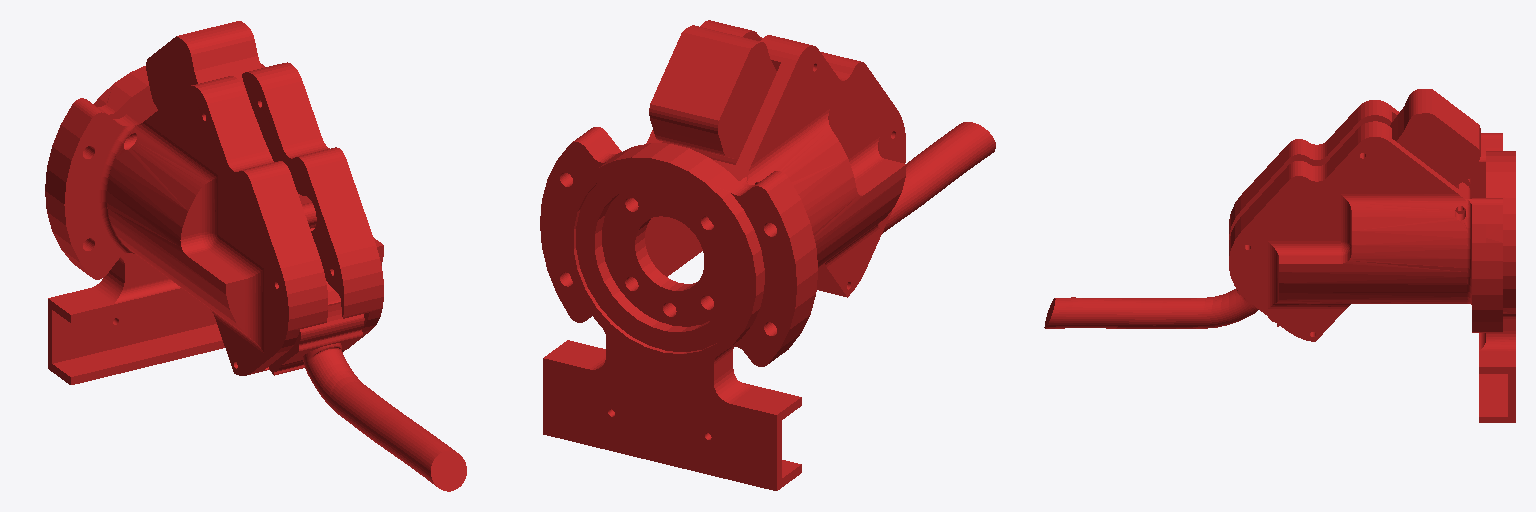
The robot description file, URDF, robot "fairino5_v6_robot":
<?xml version="1.0" encoding="utf-8"?>
<!-- This URDF was automatically created by SolidWorks to URDF Exporter! Originally created by [author] ([email redacted]) 
     Commit Version: 1.5.1-0-g916b5db  Build Version: 1.5.7152.31018
     For more information, please see http://wiki.ros.org/sw_urdf_exporter -->
<robot
  name="fairino5_v6_robot">
  <link
    name="base_link">
    <inertial>
      <origin
        xyz="-0.00031896 -0.00029673 0.042463"
        rpy="0 0 0" />
      <mass
        value="1.6185" />
      <inertia
        ixx="0.0030836"
        ixy="1.5354E-05"
        ixz="-1.9315E-05"
        iyy="0.0030825"
        iyz="-1.7918E-05"
        izz="0.0045209" />
    </inertial>
    <visual>
      <origin
        xyz="0 0 0"
        rpy="0 0 0" />
      <geometry>
        <mesh
          filename="package://fairino_description/meshes/fairino5_v6/base_link.STL" />
      </geometry>
      <material
        name="">
        <color
          rgba="0.89804 0.91765 0.92941 1" />
      </material>
    </visual>
    <collision>
      <origin
        xyz="0 0 0"
        rpy="0 0 0" />
      <geometry>
        <mesh
          filename="package://fairino_description/meshes/fairino5_v6/base_link.STL" />
      </geometry>
    </collision>
  </link>
  <link
    name="shoulder_link">
    <inertial>
      <origin
        xyz="5.0029E-07 -0.0040922 0.14629"
        rpy="0 0 0" />
      <mass
        value="4.3771" />
      <inertia
        ixx="0.010731"
        ixy="-8.0587E-09"
        ixz="-3.6773E-08"
        iyy="0.010408"
        iyz="0.00012853"
        izz="0.0081793" />
    </inertial>
    <visual>
      <origin
        xyz="0 0 0"
        rpy="0 0 0" />
      <geometry>
        <mesh
          filename="package://fairino_description/meshes/fairino5_v6/shoulder_link.STL" />
      </geometry>
      <material
        name="">
        <color
          rgba="0.89804 0.91765 0.92941 1" />
      </material>
    </visual>
    <collision>
      <origin
        xyz="0 0 0"
        rpy="0 0 0" />
      <geometry>
        <mesh
          filename="package://fairino_description/meshes/fairino5_v6/shoulder_link.STL" />
      </geometry>
    </collision>
  </link>
  <joint
    name="j1"
    type="revolute">
    <origin
      xyz="0 0 0"
      rpy="0 0 0" />
    <parent
      link="base_link" />
    <child
      link="shoulder_link" />
    <axis
      xyz="0 0 1" />
    <limit
      lower="-3.0543"
      upper="3.0543"
      effort="150"
      velocity="3.15" />
    <calibration
      rising="0"
      falling="0" />
    <dynamics
      damping="0"
      friction="0" />
    <safety_controller
      soft_lower_limit="-3.0543"
      soft_upper_limit="3.0543"
      k_position="15"
      k_velocity="10" />
  </joint>
  <link
    name="upperarm_link">
    <inertial>
      <origin
        xyz="-0.2125 -5.7643E-09 0.1346"
        rpy="0 0 0" />
      <mass
        value="14.458" />
      <inertia
        ixx="0.028392"
        ixy="-1.337E-07"
        ixz="-3.9895E-09"
        iyy="0.4559"
        iyz="4.214E-08"
        izz="0.44974" />
    </inertial>
    <visual>
      <origin
        xyz="0 0 0"
        rpy="0 0 0" />
      <geometry>
        <mesh
          filename="package://fairino_description/meshes/fairino5_v6/upperarm_link.STL" />
      </geometry>
      <material
        name="">
        <color
          rgba="0.89804 0.91765 0.92941 1" />
      </material>
    </visual>
    <collision>
      <origin
        xyz="0 0 0"
        rpy="0 0 0" />
      <geometry>
        <mesh
          filename="package://fairino_description/meshes/fairino5_v6/upperarm_link.STL" />
      </geometry>
    </collision>
  </link>
  <joint
    name="j2"
    type="revolute">
    <origin
      xyz="0 0 0.152"
      rpy="1.5708 0 0" />
    <parent
      link="shoulder_link" />
    <child
      link="upperarm_link" />
    <axis
      xyz="0 0 1" />
    <limit
      lower="-4.6251"
      upper="1.4835"
      effort="150"
      velocity="3.15" />
    <calibration
      rising="0"
      falling="0" />
    <dynamics
      damping="0"
      friction="0" />
    <safety_controller
      soft_lower_limit="-4.6251"
      soft_upper_limit="1.4835"
      k_position="15"
      k_velocity="10" />
  </joint>
  <link
    name="forearm_link">
    <inertial>
      <origin
        xyz="-0.18793 -8.4503E-07 0.0066357"
        rpy="0 0 0" />
      <mass
        value="7.6737" />
      <inertia
        ixx="0.0085096"
        ixy="2.1613E-06"
        ixz="-0.0068678"
        iyy="0.16971"
        iyz="3.7086E-08"
        izz="0.16854" />
    </inertial>
    <visual>
      <origin
        xyz="0 0 0"
        rpy="0 0 0" />
      <geometry>
        <mesh
          filename="package://fairino_description/meshes/fairino5_v6/forearm_link.STL" />
      </geometry>
      <material
        name="">
        <color
          rgba="0.89804 0.91765 0.92941 1" />
      </material>
    </visual>
    <collision>
      <origin
        xyz="0 0 0"
        rpy="0 0 0" />
      <geometry>
        <mesh
          filename="package://fairino_description/meshes/fairino5_v6/forearm_link.STL" />
      </geometry>
    </collision>
  </link>
  <joint
    name="j3"
    type="revolute">
    <origin
      xyz="-0.425 0 0"
      rpy="0 0 0" />
    <parent
      link="upperarm_link" />
    <child
      link="forearm_link" />
    <axis
      xyz="0 0 1" />
    <limit
      lower="-2.8274"
      upper="2.8274"
      effort="150"
      velocity="3.15" />
    <calibration
      rising="0"
      falling="0" />
    <dynamics
      damping="0"
      friction="0" />
    <safety_controller
      soft_lower_limit="-2.8274"
      soft_upper_limit="2.8274"
      k_position="15"
      k_velocity="10" />
  </joint>
  <link
    name="wrist1_link">
    <inertial>
      <origin
        xyz="4.98E-07 -0.003754 0.097155"
        rpy="0 0 0" />
      <mass
        value="1.6266" />
      <inertia
        ixx="0.00216"
        ixy="4.888E-09"
        ixz="3.1528E-08"
        iyy="0.0015455"
        iyz="3.7678E-05"
        izz="0.0019902" />
    </inertial>
    <visual>
      <origin
        xyz="0 0 0"
        rpy="0 0 0" />
      <geometry>
        <mesh
          filename="package://fairino_description/meshes/fairino5_v6/wrist1_link.STL" />
      </geometry>
      <material
        name="">
        <color
          rgba="0.89804 0.91765 0.92941 1" />
      </material>
    </visual>
    <collision>
      <origin
        xyz="0 0 0"
        rpy="0 0 0" />
      <geometry>
        <mesh
          filename="package://fairino_description/meshes/fairino5_v6/wrist1_link.STL" />
      </geometry>
    </collision>
  </link>
  <joint
    name="j4"
    type="revolute">
    <origin
      xyz="-0.39501 0 0"
      rpy="0 0 0" />
    <parent
      link="forearm_link" />
    <child
      link="wrist1_link" />
    <axis
      xyz="0 0 1" />
    <limit
      lower="-4.6251"
      upper="1.4835"
      effort="28"
      velocity="3.2" />
    <calibration
      rising="0"
      falling="0" />
    <dynamics
      damping="0"
      friction="0" />
    <safety_controller
      soft_lower_limit="-4.6251"
      soft_upper_limit="1.4835"
      k_position="15"
      k_velocity="10" />
  </joint>
  <link
    name="wrist2_link">
    <inertial>
      <origin
        xyz="-4.5588E-07 0.0038617 0.098257"
        rpy="0 0 0" />
      <mass
        value="1.5812" />
      <inertia
        ixx="0.0020612"
        ixy="8.7064E-09"
        ixz="-3.4742E-08"
        iyy="0.0014477"
        iyz="-2.8534E-05"
        izz="0.0019573" />
    </inertial>
    <visual>
      <origin
        xyz="0 0 0"
        rpy="0 0 0" />
      <geometry>
        <mesh
          filename="package://fairino_description/meshes/fairino5_v6/wrist2_link.STL" />
      </geometry>
      <material
        name="">
        <color
          rgba="0.89804 0.91765 0.92941 1" />
      </material>
    </visual>
    <collision>
      <origin
        xyz="0 0 0"
        rpy="0 0 0" />
      <geometry>
        <mesh
          filename="package://fairino_description/meshes/fairino5_v6/wrist2_link.STL" />
      </geometry>
    </collision>
  </link>
  <joint
    name="j5"
    type="revolute">
    <origin
      xyz="0 0 0.1021"
      rpy="1.5708 0 0" />
    <parent
      link="wrist1_link" />
    <child
      link="wrist2_link" />
    <axis
      xyz="0 0 1" />
    <limit
      lower="-3.0543"
      upper="3.0543"
      effort="28"
      velocity="3.2" />
    <calibration
      rising="0"
      falling="0" />
    <dynamics
      damping="0"
      friction="0" />
    <safety_controller
      soft_lower_limit="-3.0543"
      soft_upper_limit="3.0543"
      k_position="15"
      k_velocity="10" />
  </joint>
  <link
    name="wrist3_link">
    <inertial>
      <origin
        xyz="7.7496E-05 1.7751E-05 0.076122"
        rpy="0 0 0" />
      <mass
        value="0.52542" />
      <inertia
        ixx="0.00027721"
        ixy="-1.8677E-09"
        ixz="-1.188E-07"
        iyy="0.00027839"
        iyz="2.2607E-07"
        izz="0.00041605" />
    </inertial>
    <visual>
      <origin
        xyz="0 0 0"
        rpy="0 0 0" />
      <geometry>
        <mesh
          filename="package://fairino_description/meshes/fairino5_v6/wrist3_link.STL" />
      </geometry>
      <material
        name="">
        <color
          rgba="0.89804 0.91765 0.92941 1" />
      </material>
    </visual>
    <collision>
      <origin
        xyz="0 0 0"
        rpy="0 0 0" />
      <geometry>
        <mesh
          filename="package://fairino_description/meshes/fairino5_v6/wrist3_link.STL" />
      </geometry>
    </collision>
  </link>
  <joint
    name="j6"
    type="revolute">
    <origin
      xyz="0 0 0.102"
      rpy="-1.5708 0 0" />
    <parent
      link="wrist2_link" />
    <child
      link="wrist3_link" />
    <axis
      xyz="0 0 1" />
    <limit
      lower="-3.0543"
      upper="3.0543"
      effort="28"
      velocity="3.2" />
    <calibration
      rising="0"
      falling="0" />
    <dynamics
      damping="0"
      friction="0" />
    <safety_controller
      soft_lower_limit="-3.0543"
      soft_upper_limit="3.0543"
      k_position="15"
      k_velocity="10" />
  </joint>
  <link
    name="weld_mount_connector_link">
    <visual>
      <origin
        xyz="0 0 0"
        rpy="0 0 0" />
      <geometry>
        <mesh
          filename="package://fairino_description/meshes/fairino5_v6/weld_end_effector.stl" />
      </geometry>
      <material
        name="">
        <color
          rgba="0.8 0.2 0.2 1" />
      </material>
    </visual>
    <collision>
      <origin
        xyz="0 0 0"
        rpy="0 0 0" />
      <geometry>
        <mesh
          filename="package://fairino_description/meshes/fairino5_v6/weld_end_effector.stl" />
      </geometry>
    </collision>
  </link>
  <joint
    name="wrist3_to_weld_mount_connector"
    type="fixed">
    <origin
      xyz="0 0 0.0911"
      rpy="0 0 3.14159" />
    <parent
      link="wrist3_link" />
    <child
      link="weld_mount_connector_link" />
  </joint>
  <link
    name="weld_tip" />
  <joint
    name="weld_mount_connector_to_weld_tip"
    type="fixed">
    <origin
      xyz="0 0.04868120 0.25567253"
      rpy="0 0 0" />
    <parent
      link="weld_mount_connector_link" />
    <child
      link="weld_tip" />
  </joint>
</robot>

--- Render facts (derived) ---
3 views of the same robot in one strip: view 1: azimuth 30°, elevation 25°; view 2: azimuth 150°, elevation 25°; view 3: azimuth 270°, elevation 25° (orthographic).
Model fairino5_v6_robot with 9 links and 8 joints (6 revolute, 2 fixed), rooted at base_link, posed all joints at 0.
Links seen in each view (by area): view 1: weld_mount_connector_link; view 2: weld_mount_connector_link; view 3: weld_mount_connector_link.
Boxes of the visible links, x1=… form: weld_mount_connector_link: x1=45, y1=21, x2=466, y2=491; weld_mount_connector_link: x1=540, y1=20, x2=995, y2=490; weld_mount_connector_link: x1=1044, y1=89, x2=1515, y2=422.
Size in the robot's own frame: 0.12 by 0.2587 by 0.1699 metres.
Meshes: 8 distinct files referenced, 1 mesh visuals loaded (1 binary STL); not drawn: 7 (reference not matched to a file when rendering).